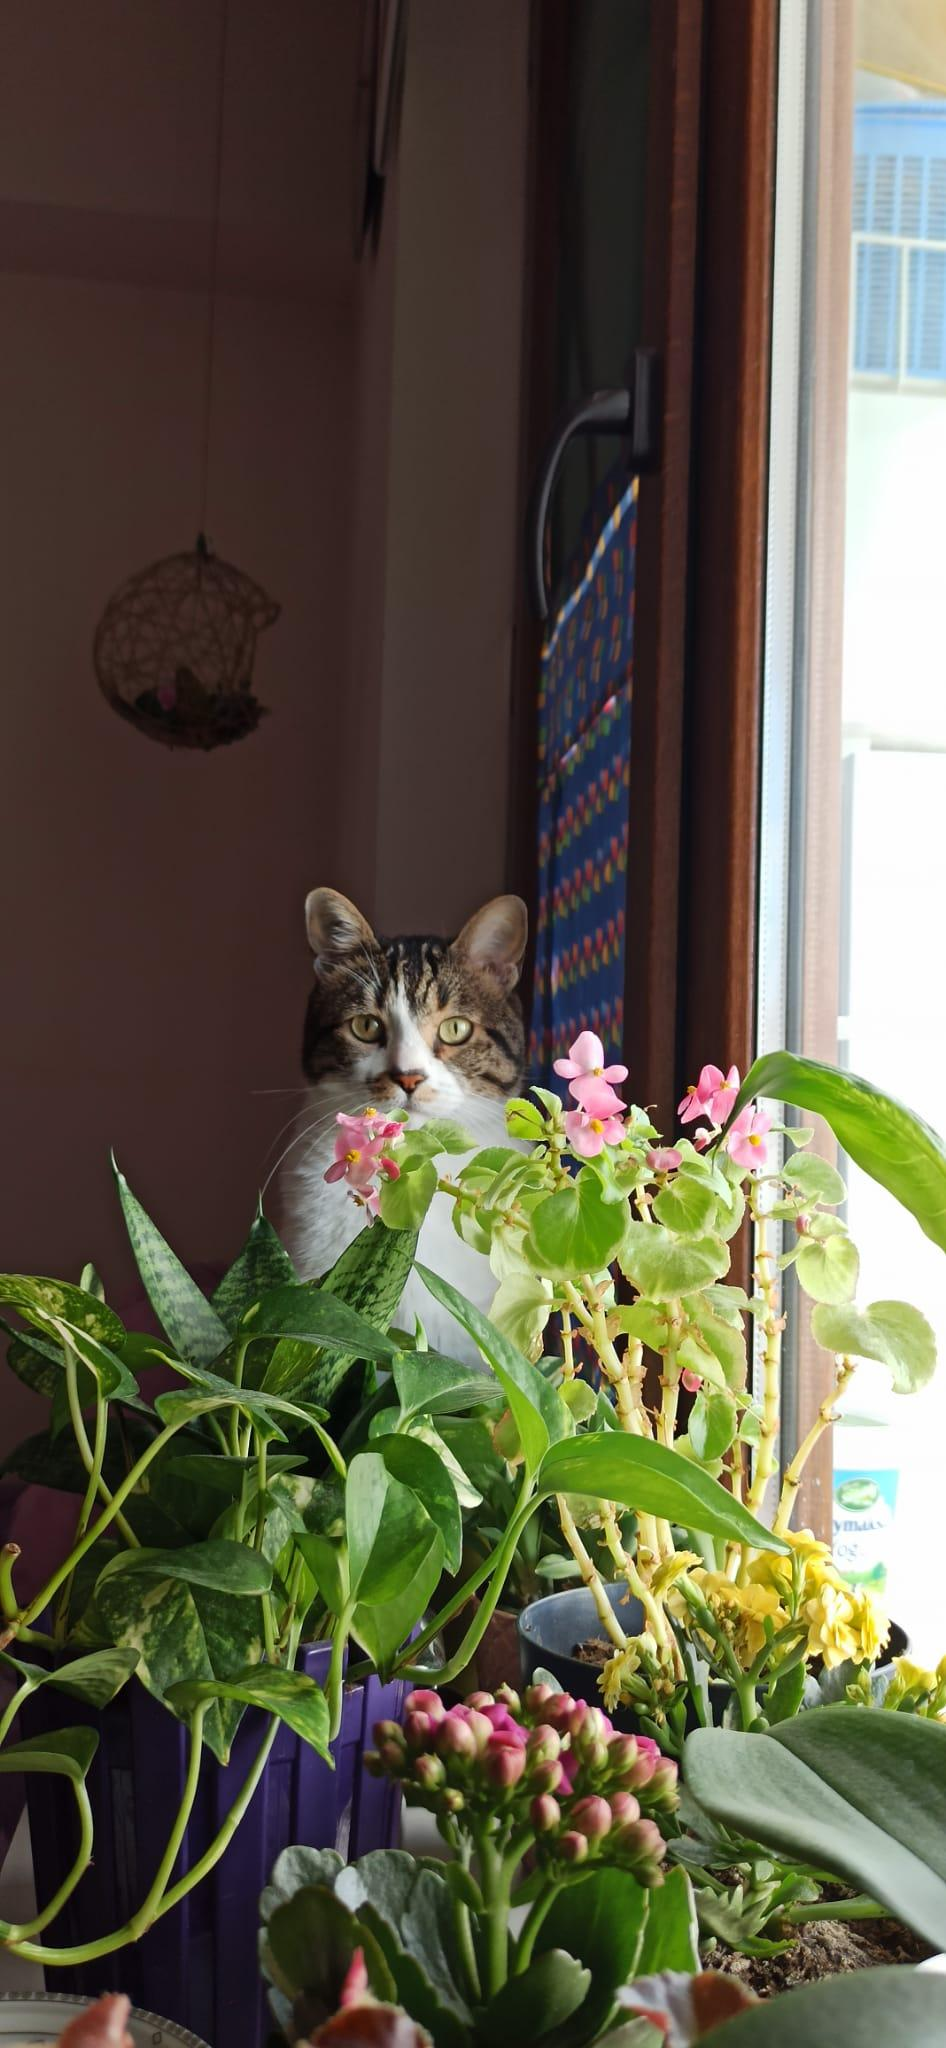kedo: (304, 886, 529, 1139)
